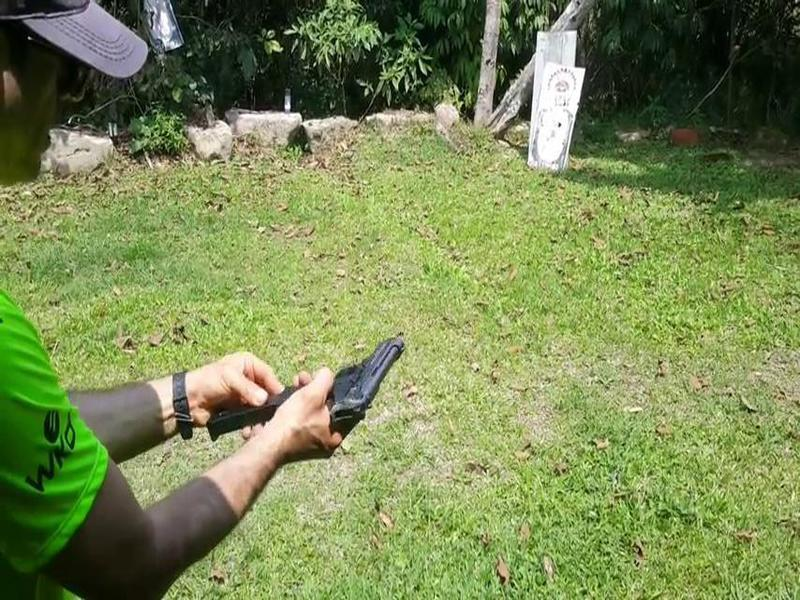Pistola: (316, 332, 414, 416)
